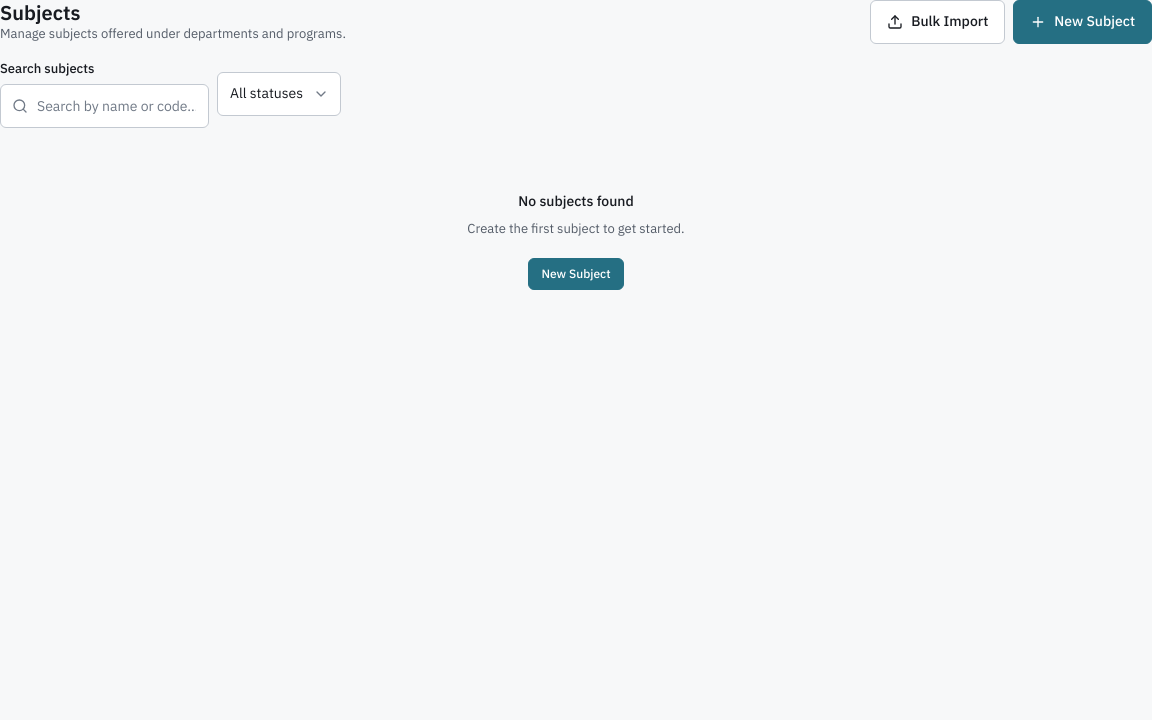
Admin > Academic Structure > Subjects › shows a validation error when code/name are missing
Expected: the text "No subjects found" is shown, [518,192,634,212]
Step 1. Click the 1st button "New Subject" → (1083, 22), box [1013,0,1151,44]
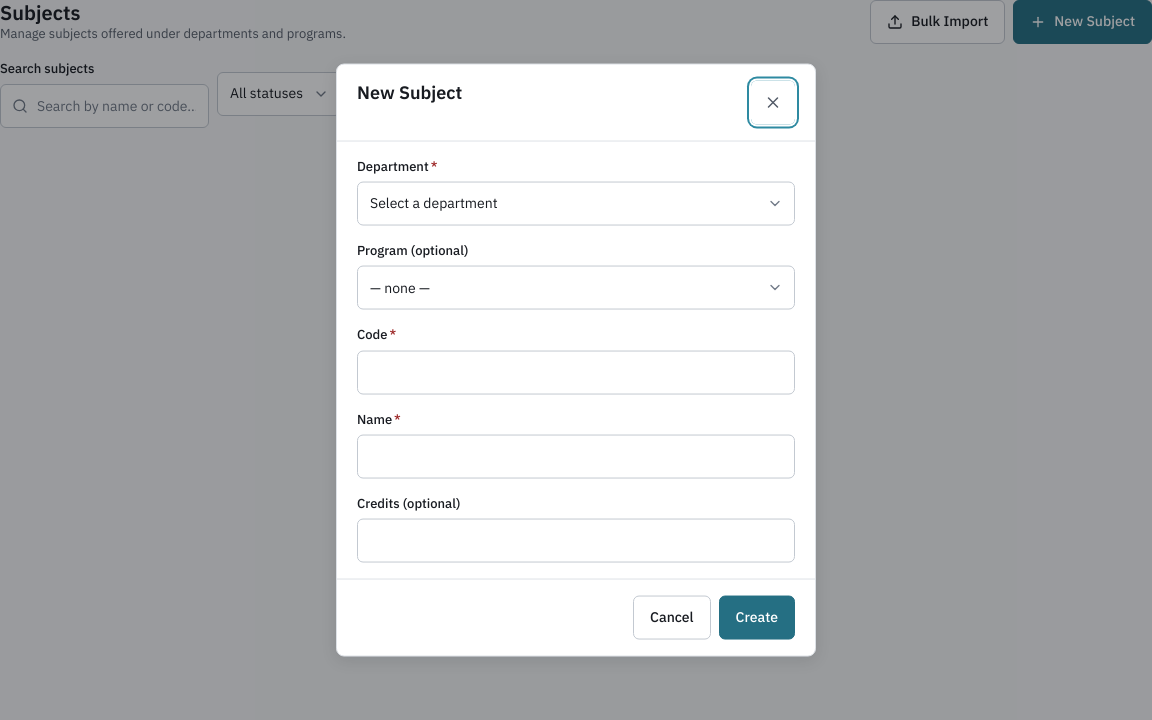
Step 2. Select "CS — Computer Science" in the dropdown labelled "Department*" → (576, 204), box [357,182,795,226]
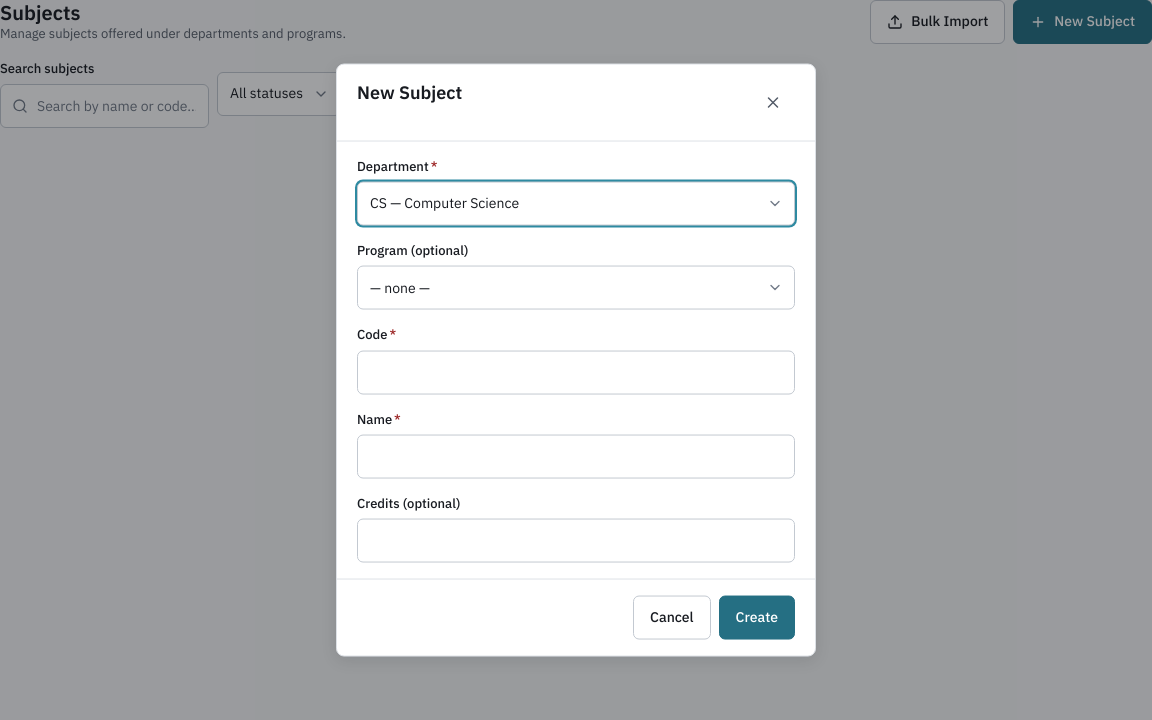
Step 3. Click the button "Create" → (757, 618), box [719,596,795,640]
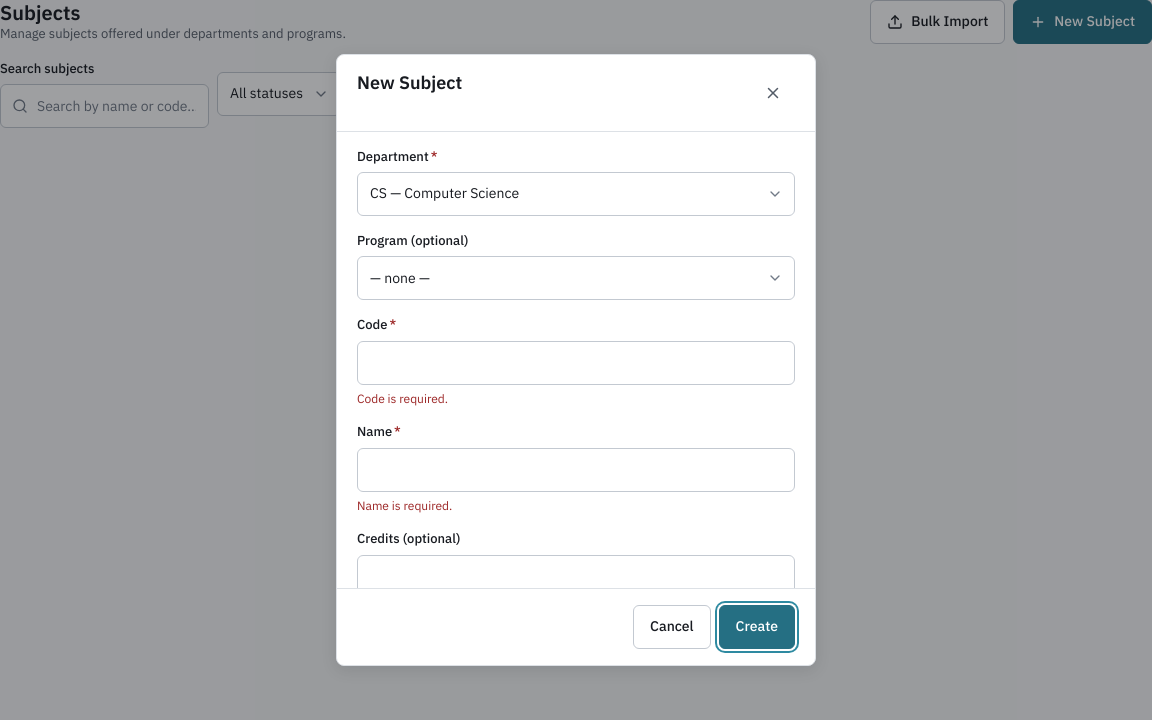
Result: the text "Code is required." is shown at [357,391,448,406]
Result: the text "Name is required." is shown at [357,498,452,512]
